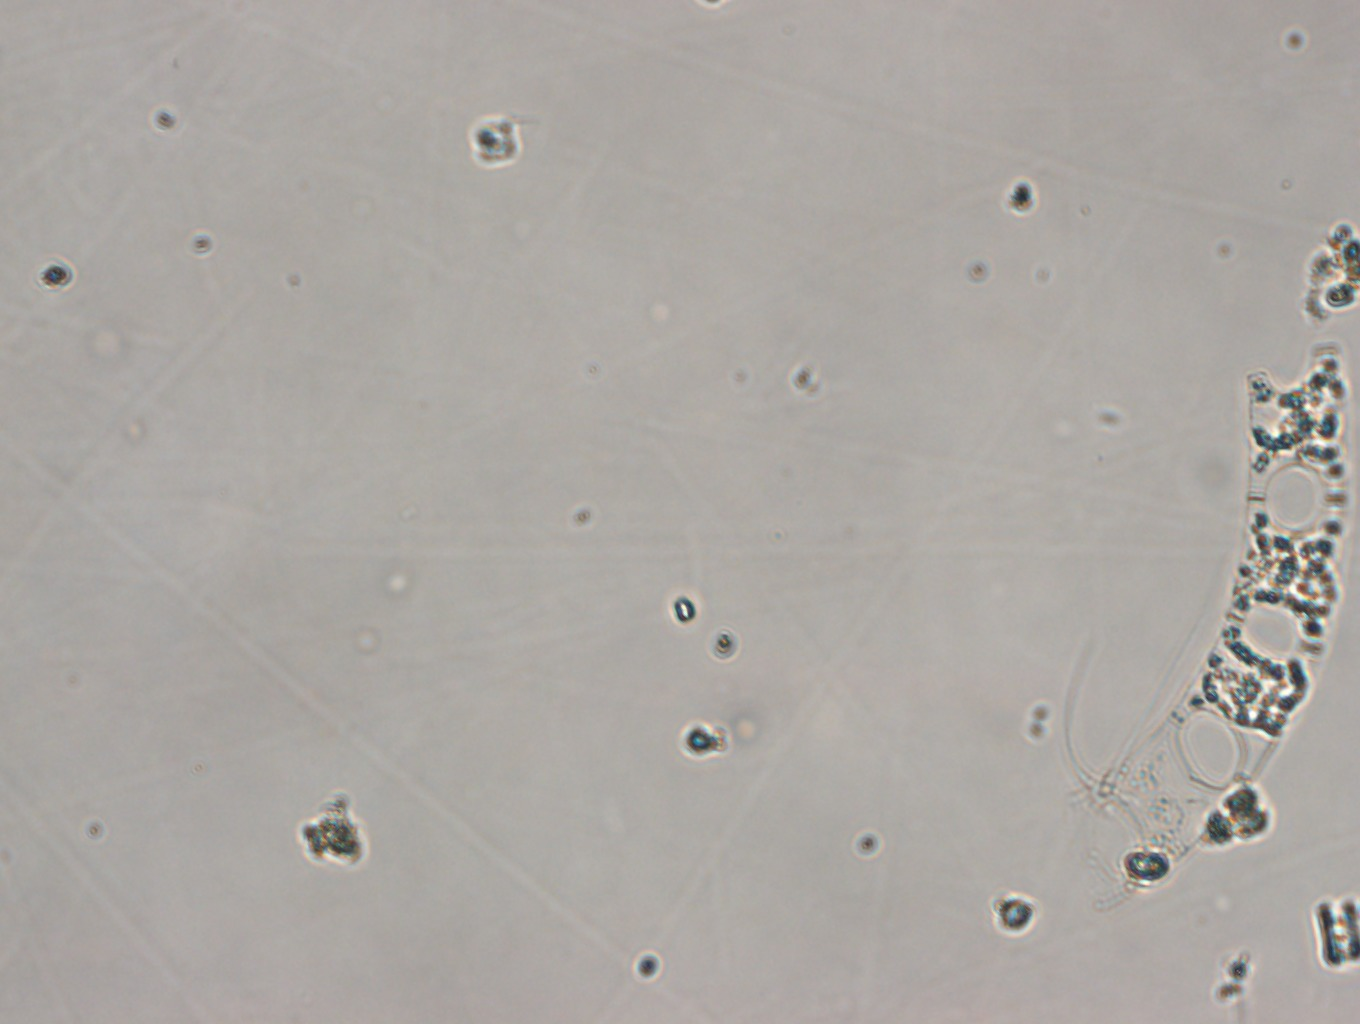eucampia: (1080, 359, 1360, 887)
